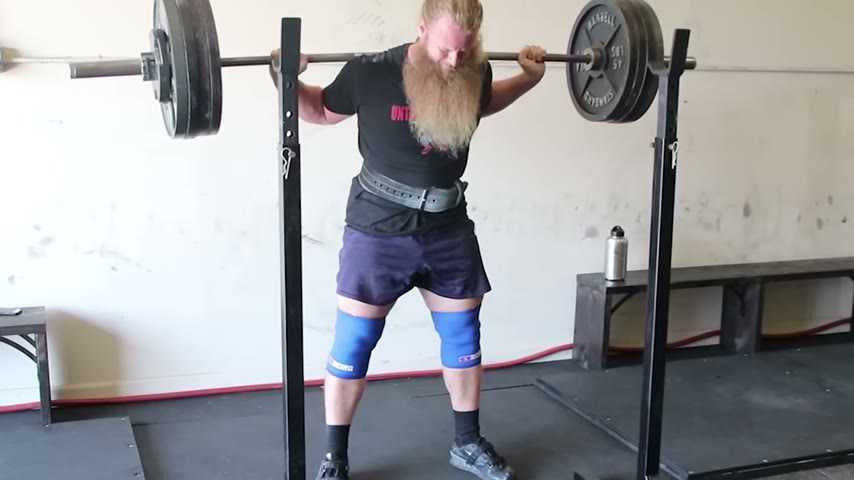barbell_plate_side: (624, 0, 699, 132)
